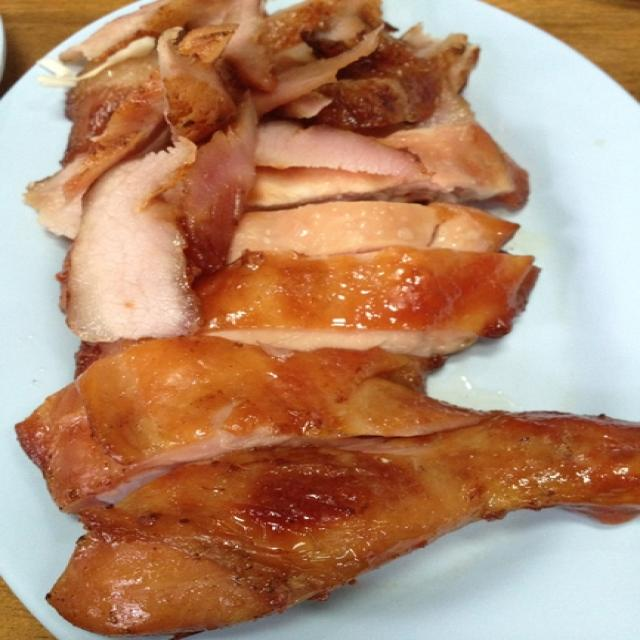猪肉菜式: (19, 13, 620, 634)
